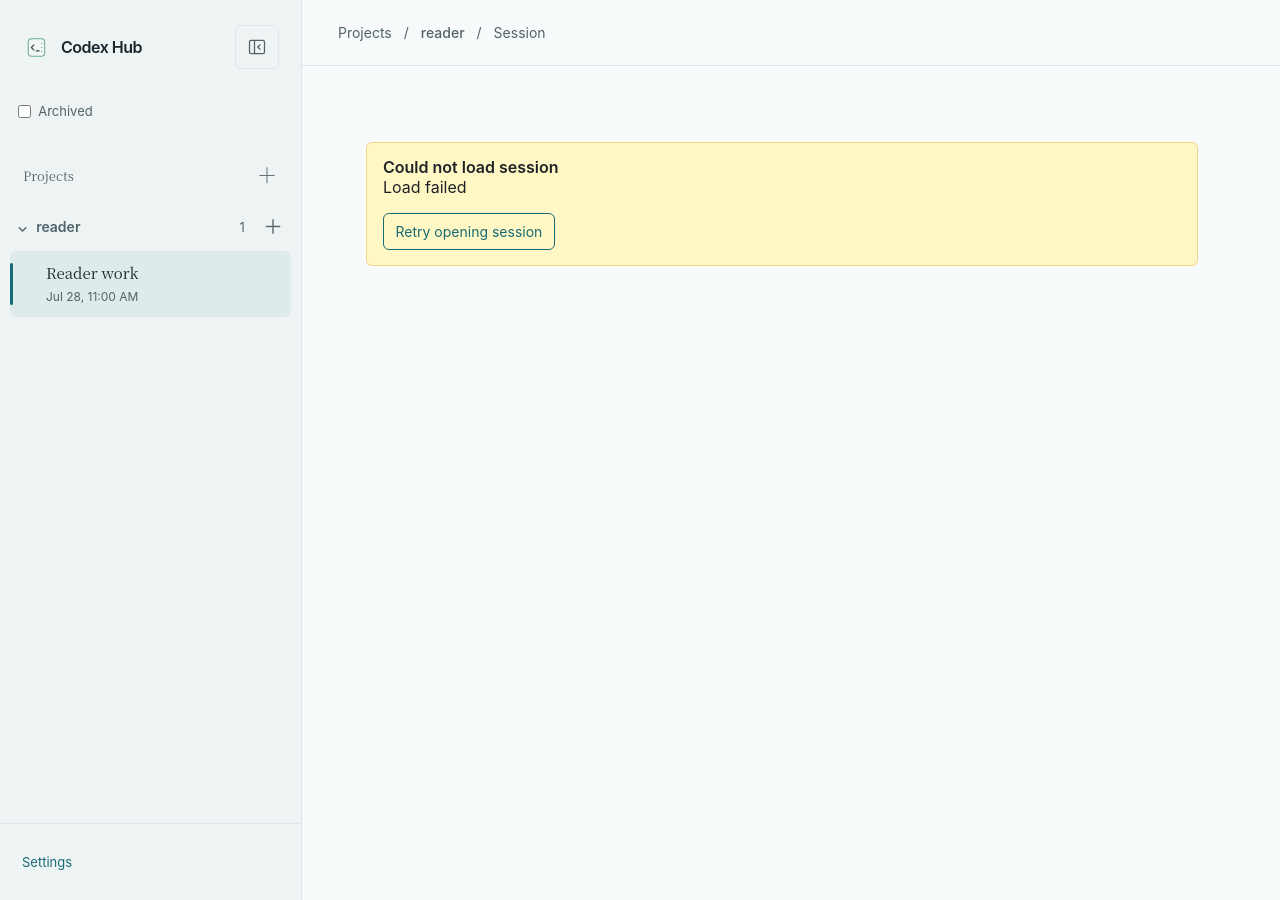
unified hub › keeps retry available for other session loading errors
This screenshot has width=1280, height=900.
expect the message shows "Could not load session": met, box [383, 157, 559, 177]
Click the button "Retry opening session". click: (469, 232)
box: [383, 213, 555, 250]
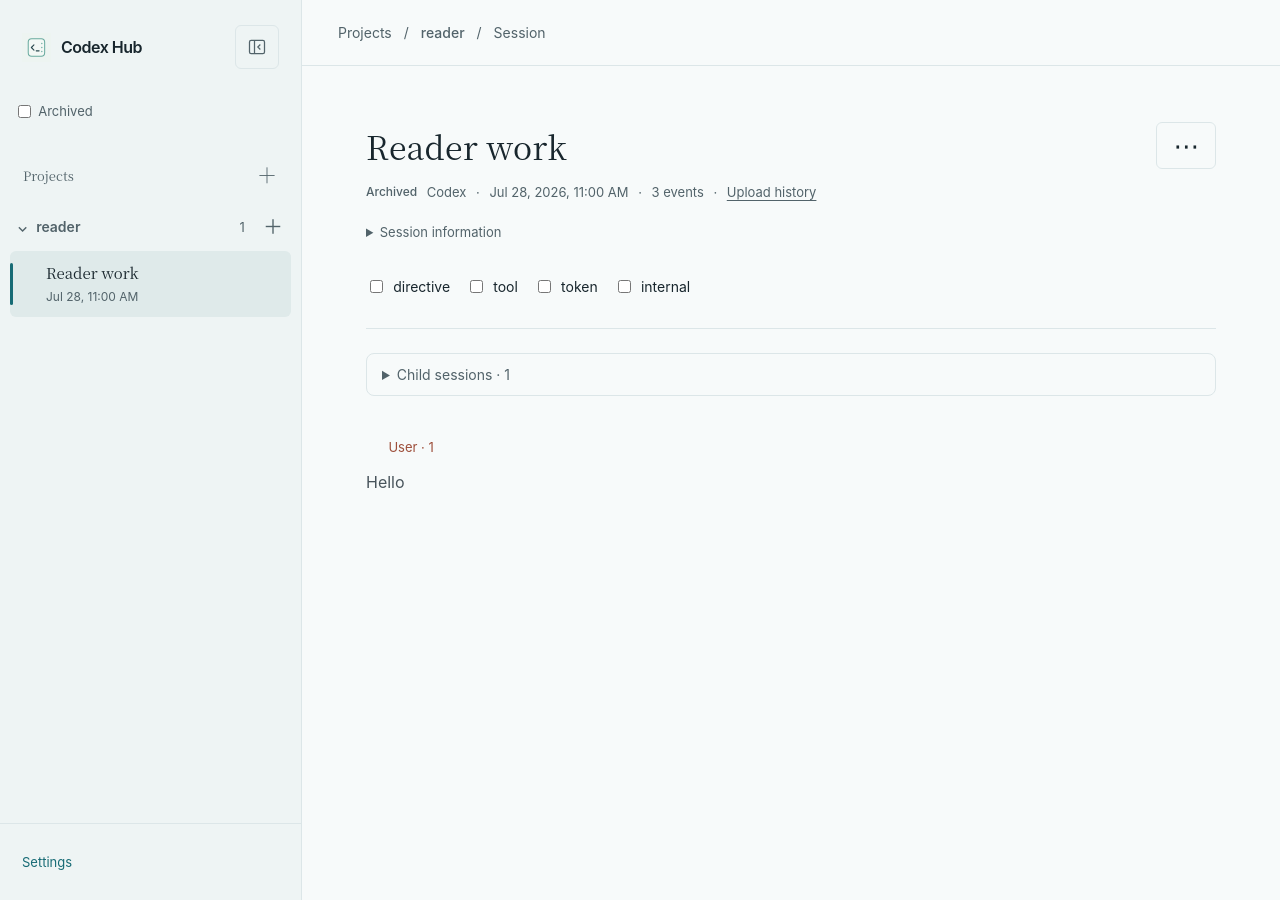
expect the heading "Reader work" is shown: met, box [366, 123, 567, 169]
